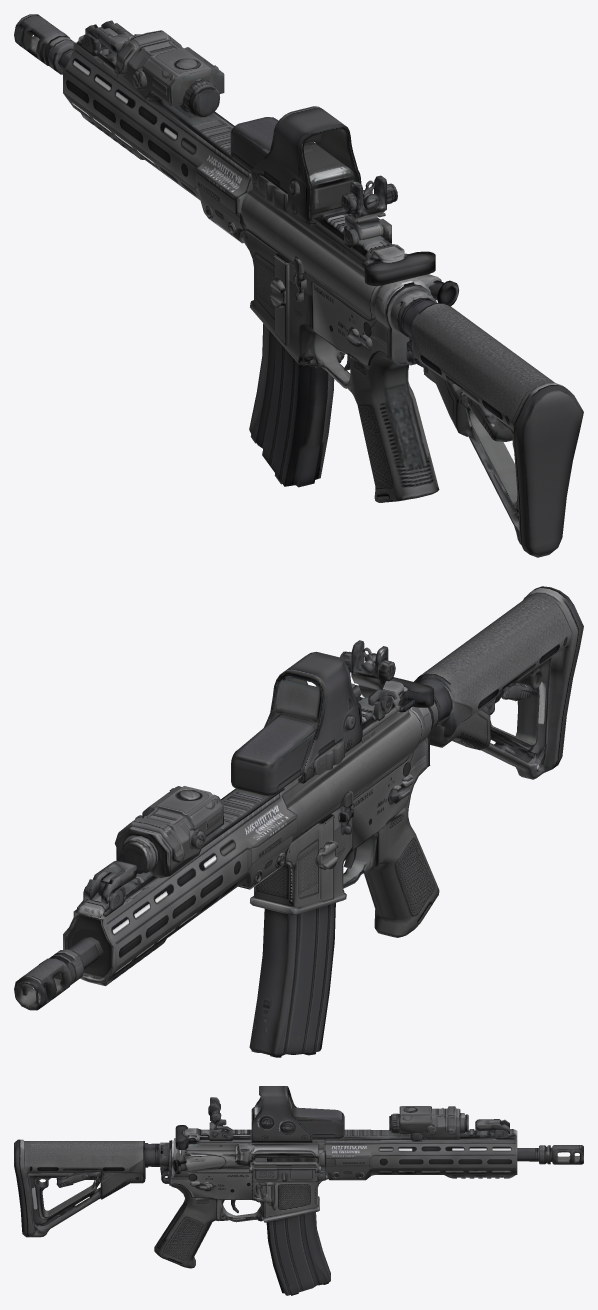
Rendered from m22_phalanx.fbx.
3 renders of one model, top to bottom at view 1: azimuth 30°, elevation 25°; view 2: azimuth 150°, elevation 25°; view 3: azimuth 270°, elevation 25°, orthographic. The views are drawn at different scales.
Visible parts, largest first — view 1: tripo_43efeabe_9a97_4b21_884d_406f602c9da5; view 2: tripo_43efeabe_9a97_4b21_884d_406f602c9da5; view 3: tripo_43efeabe_9a97_4b21_884d_406f602c9da5.
Part boxes in pixels (box(x1,y1,x2,y2)): tripo_43efeabe_9a97_4b21_884d_406f602c9da5: box(14, 14, 583, 557); tripo_43efeabe_9a97_4b21_884d_406f602c9da5: box(14, 586, 583, 1057); tripo_43efeabe_9a97_4b21_884d_406f602c9da5: box(14, 1086, 583, 1295).
Bounding box in the file's own units: 0.0981 × 0.3921 × 0.9995.
Materials: 1 (1 with a texture image).
